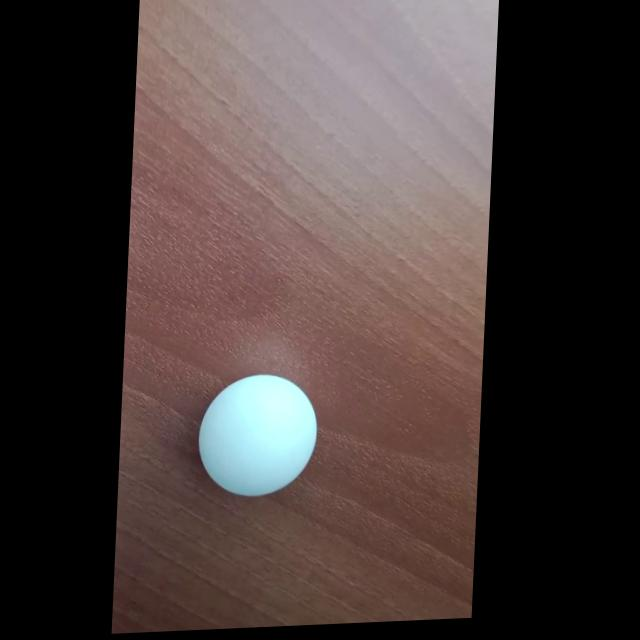white ball: (194, 371, 320, 500)
